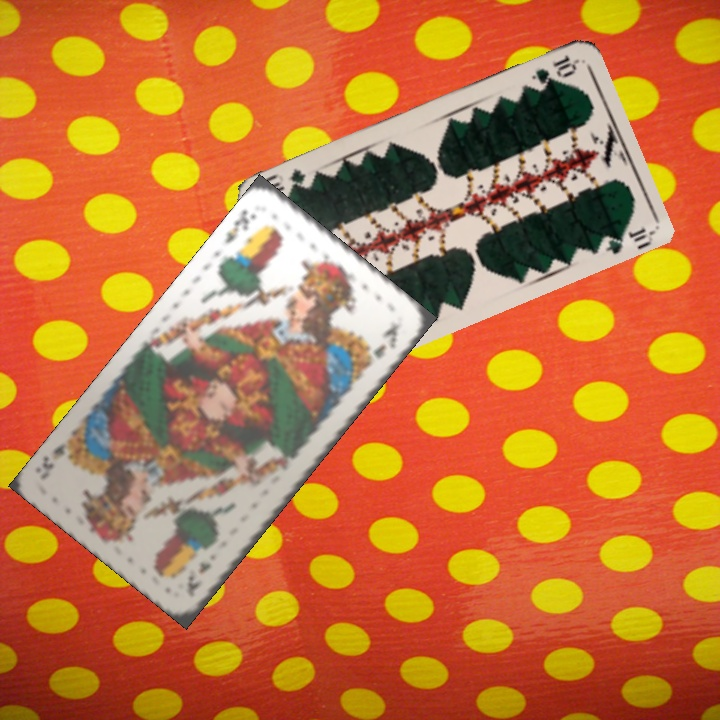EK: (220, 206, 259, 247), (182, 557, 214, 600)
G10: (527, 50, 580, 87)
